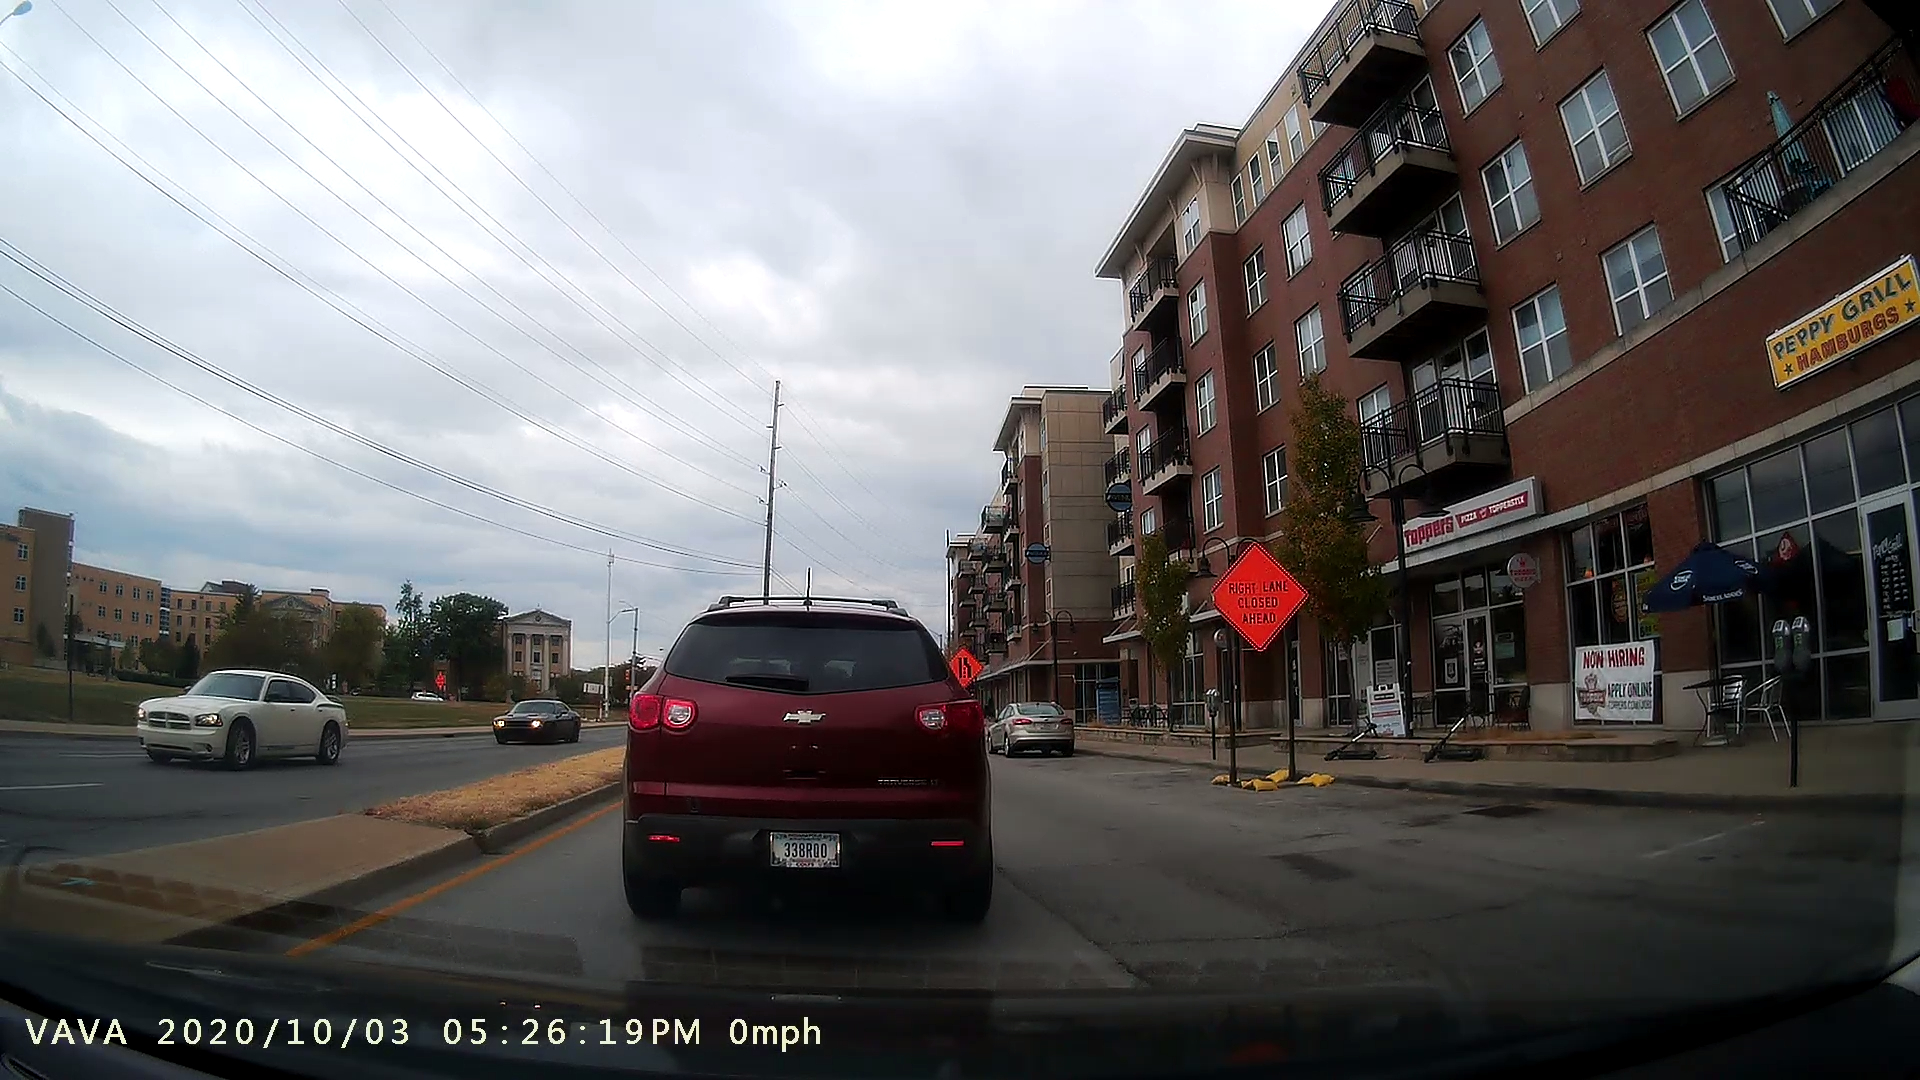ttcs_right_lane_closed_ahead: (1207, 524, 1338, 785)
